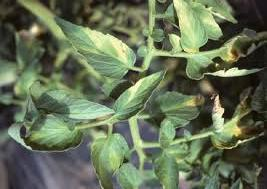Tomato mold leaf: (54, 15, 139, 79), (114, 64, 171, 121), (15, 113, 88, 151), (149, 90, 212, 130), (91, 129, 131, 186), (172, 1, 209, 48)
